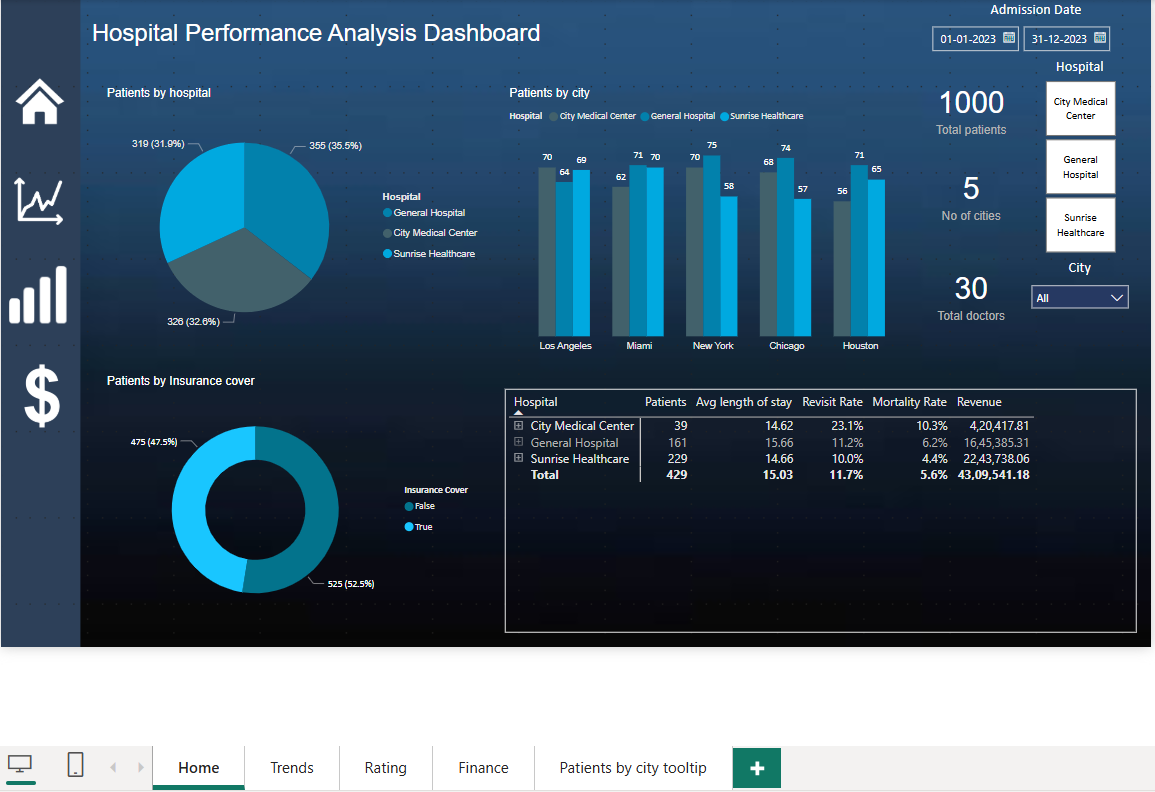

The dashboard page shown, as its layout file describes it:
{"tool":"powerbi","page":{"name":"Home","canvas":[1280,720],"ordinal":0},"visuals":[{"type":"slicer","title":"Hospital","fields":{"Values":["enhanced_healthcare_data.Hospital"]},"box":[1136,64,128,224],"z":0},{"type":"clusteredColumnChart","title":"Patients by city ","fields":{"Category":["enhanced_healthcare_data.City"],"Y":["enhanced_healthcare_data.PatientID"],"Series":["enhanced_healthcare_data.Hospital"]},"box":[560,96,464,304],"z":1000},{"type":"pieChart","title":"Patients by hospital","fields":{"Category":["enhanced_healthcare_data.Hospital"],"Y":["enhanced_healthcare_data.PatientID"]},"box":[112,96,432,304],"z":2000},{"type":"card","title":"Total Patients","fields":{"Values":["enhanced_healthcare_data.PatientID"]},"box":[1024,80,112,80],"z":3000},{"type":"card","title":"Total Doctors","fields":{"Values":["enhanced_healthcare_data.Doctor"]},"box":[1024,288,112,80],"z":4000},{"type":"card","title":"Total Cities","fields":{"Values":["enhanced_healthcare_data.City"]},"box":[1024,176,112,80],"z":5000},{"type":"pivotTable","title":"Patients by doctor","fields":{"Rows":["enhanced_healthcare_data.Hospital","enhanced_healthcare_data.City"],"Values":["enhanced_healthcare_data.PatientID","enhanced_healthcare_data.LengthOfStay","enhanced_healthcare_data.ReadmissionRate","enhanced_healthcare_data.Mortality_nRate","enhanced_healthcare_data.TotalBill"]},"box":[560,432,704,272],"z":6000},{"type":"donutChart","title":"Patients by Insurance cover","fields":{"Y":["enhanced_healthcare_data.PatientID"],"Category":["enhanced_healthcare_data.InsuranceCovered"]},"box":[112,416,432,288],"z":7000},{"type":"slicer","title":"City","fields":{"Values":["enhanced_healthcare_data.City"]},"box":[1136,288,128,80],"z":8000},{"type":"slicer","title":"Admission Date","fields":{"Values":["enhanced_healthcare_data.AdmissionDate"]},"box":[1024,0,256,80],"z":9000},{"type":"textbox","box":[96,16,912,64],"z":10000},{"type":"image","box":[0,80,87,64],"z":11000},{"type":"image","box":[10,192,64,64],"z":12000},{"type":"image","box":[4,288,74,80],"z":13000},{"type":"image","box":[6,400,80,80],"z":14001}]}

Visuals, with their boxes on the page's 1280x720 design canvas (x1, y1, x2, y2). These are canvas units, not pixel positions in the 1155x792 screenshot, which may show the page scaled, cropped or inside an application window:
"Hospital" slicer: <bbox>1136, 64, 1264, 288</bbox>
"Patients by city " clusteredColumnChart: <bbox>560, 96, 1024, 400</bbox>
"Patients by hospital" pieChart: <bbox>112, 96, 544, 400</bbox>
"Total Patients" card: <bbox>1024, 80, 1136, 160</bbox>
"Total Doctors" card: <bbox>1024, 288, 1136, 368</bbox>
"Total Cities" card: <bbox>1024, 176, 1136, 256</bbox>
"Patients by doctor" pivotTable: <bbox>560, 432, 1264, 704</bbox>
"Patients by Insurance cover" donutChart: <bbox>112, 416, 544, 704</bbox>
"City" slicer: <bbox>1136, 288, 1264, 368</bbox>
"Admission Date" slicer: <bbox>1024, 0, 1280, 80</bbox>
textbox: <bbox>96, 16, 1008, 80</bbox>
image: <bbox>0, 80, 87, 144</bbox>
image: <bbox>10, 192, 74, 256</bbox>
image: <bbox>4, 288, 78, 368</bbox>
image: <bbox>6, 400, 86, 480</bbox>
